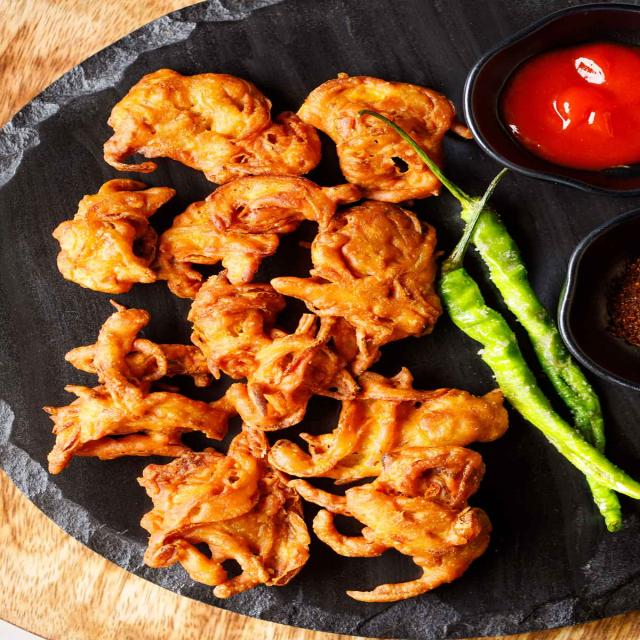BAJI: (49, 274, 355, 471), (296, 445, 484, 604), (141, 429, 309, 595), (273, 202, 434, 369), (277, 372, 505, 479), (93, 76, 316, 185), (159, 177, 357, 298), (303, 76, 445, 200), (44, 182, 169, 296)
